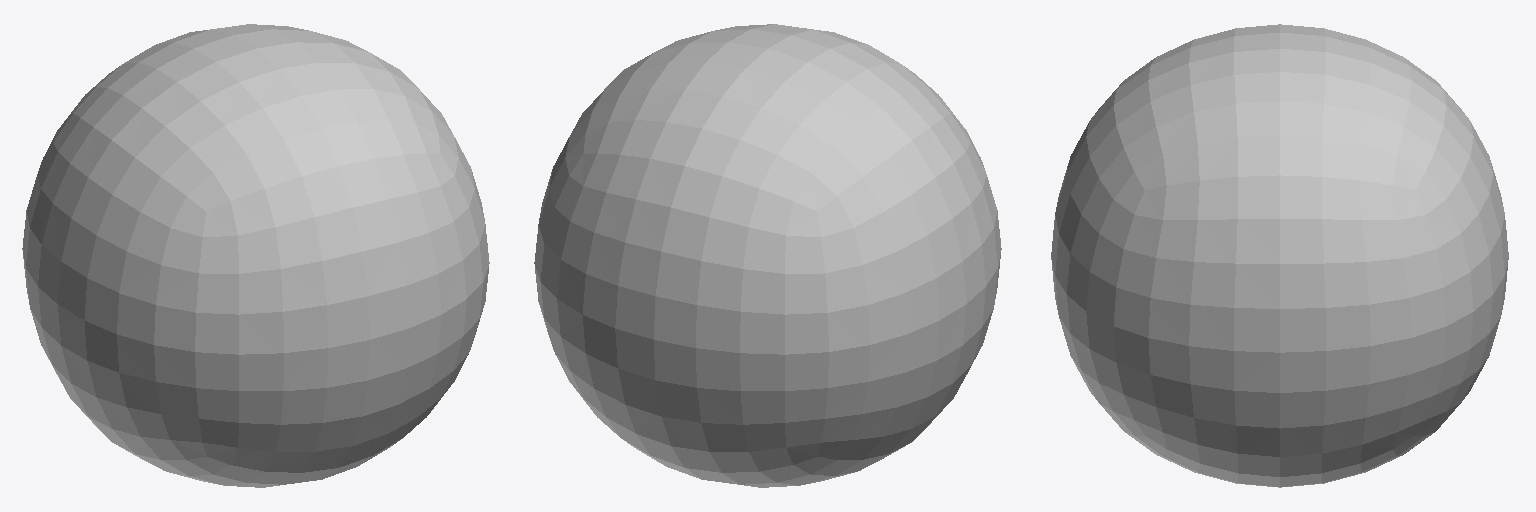
The model's file is lootDrop.obj.
The picture shows the model from 3 angles: view 1: azimuth 30°, elevation 25°; view 2: azimuth 150°, elevation 25°; view 3: azimuth 270°, elevation 25°; orthographic projection.
Parts seen in each view (by area): view 1: Cube_Cube.003; view 2: Cube_Cube.003; view 3: Cube_Cube.003.
Boxes of the visible parts, x1,y1,x2,y2 form: Cube_Cube.003: [22, 24, 489, 487]; Cube_Cube.003: [534, 24, 1001, 487]; Cube_Cube.003: [1051, 24, 1508, 487].
Bounding box in the file's own units: 0.0425 × 0.0425 × 0.0425.